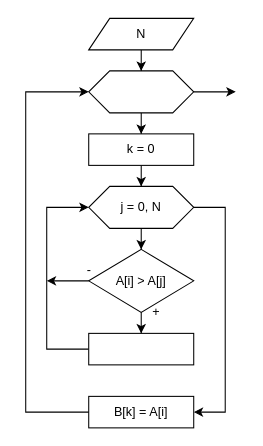
The diagram is 263 pixels wide and 446 high, and some of its shapes have lost their labels. Each missing label, with the centre of its shape:
"i = 1, N" goes at (141,91).
"k = k +1" goes at (141,348).
